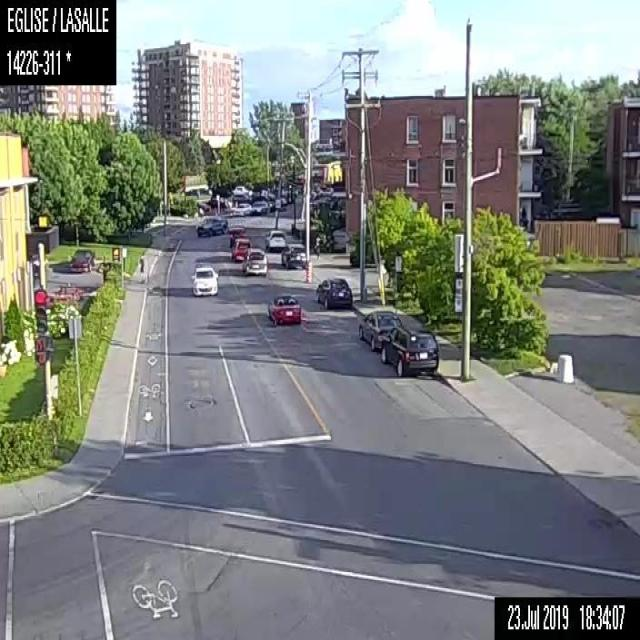construction: (305, 258, 312, 284)
pedestrian: (312, 232, 320, 260), (136, 251, 144, 277)
vehicle: (382, 324, 437, 375), (357, 307, 401, 352), (314, 273, 352, 308), (264, 292, 301, 325), (189, 263, 218, 296), (240, 246, 268, 275), (194, 213, 227, 235), (280, 244, 306, 269), (68, 247, 94, 271), (264, 228, 286, 249), (230, 236, 250, 259), (249, 199, 271, 215), (228, 228, 246, 247), (231, 201, 250, 214)
